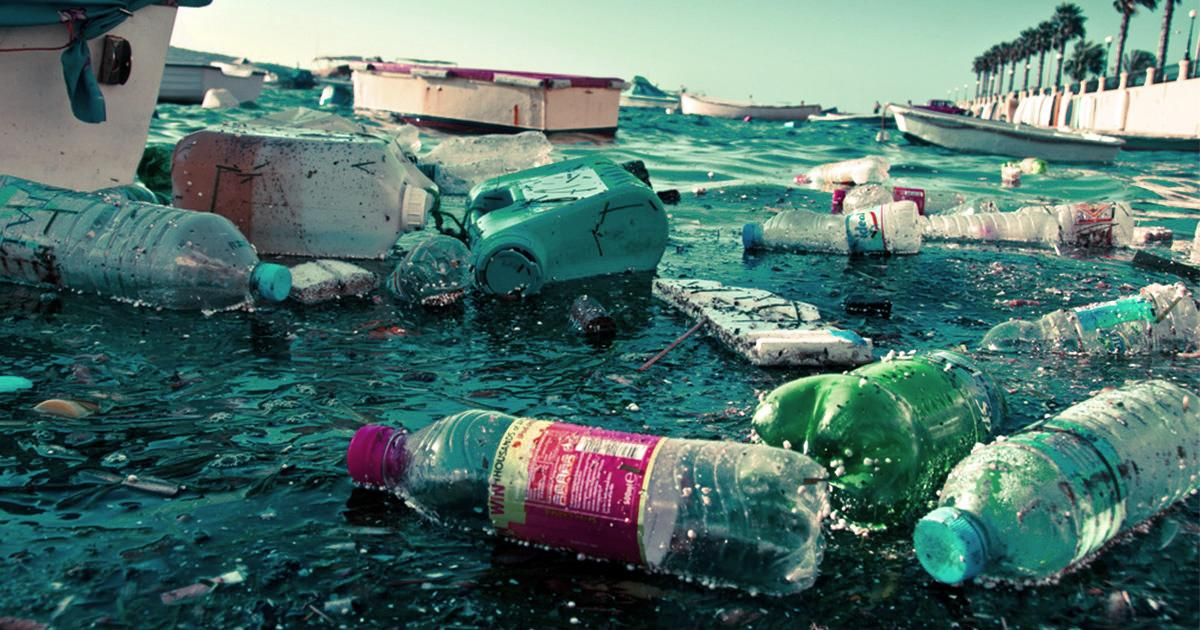Plastic: (341, 400, 835, 601), (908, 373, 1200, 596), (0, 174, 295, 317), (750, 343, 1018, 497), (472, 156, 669, 292), (988, 291, 1176, 366), (924, 193, 1135, 252), (738, 199, 926, 262)
